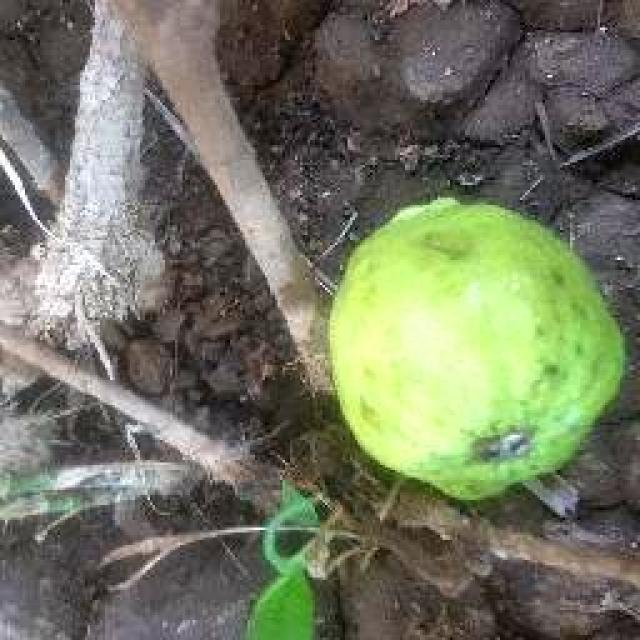Good_Guava: (328, 198, 628, 505)
